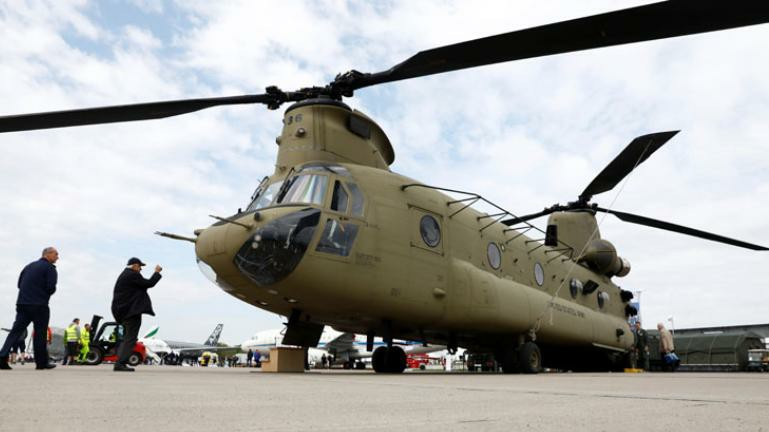chinook: (165, 59, 671, 378)
